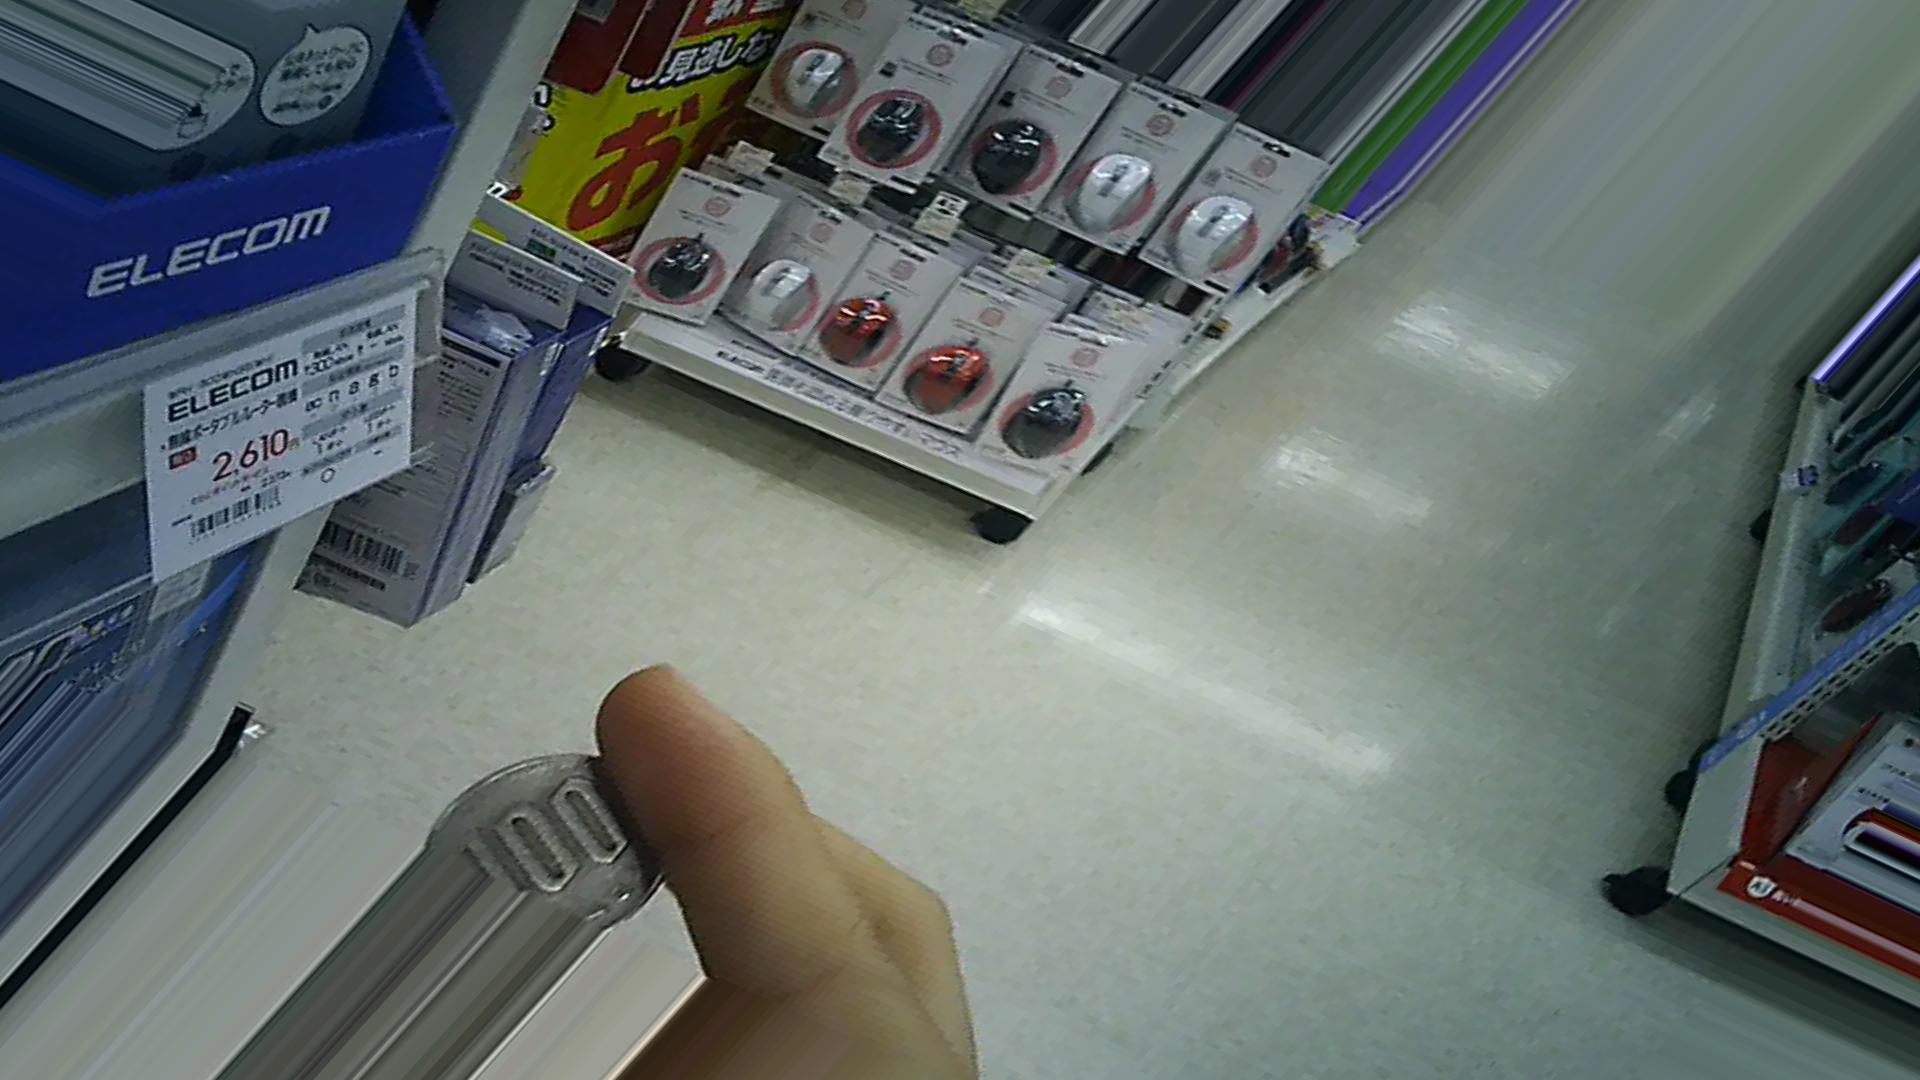100 Yen: (414, 748, 688, 973)
